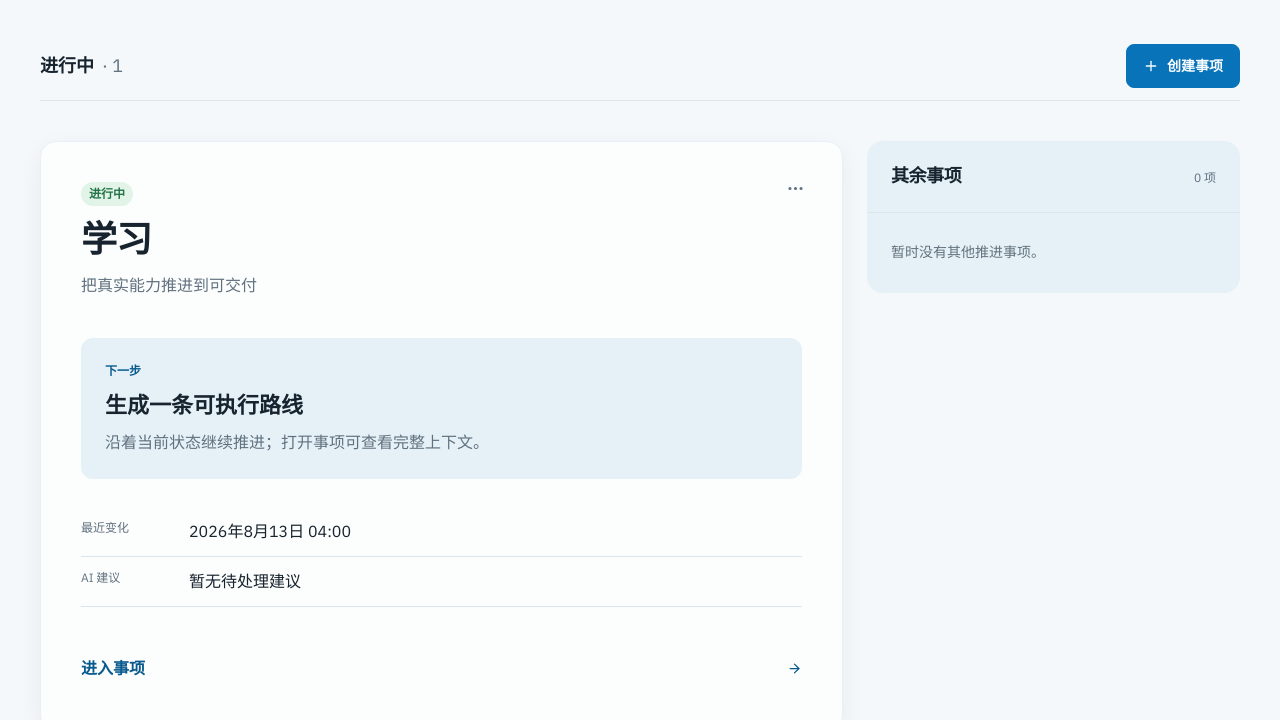
Test: Final usability closure · planning and items › renames the canonical item and synchronizes the planning surface
Click the button named "管理事项 学习" at (796, 188), box 774,166 -> 818,210
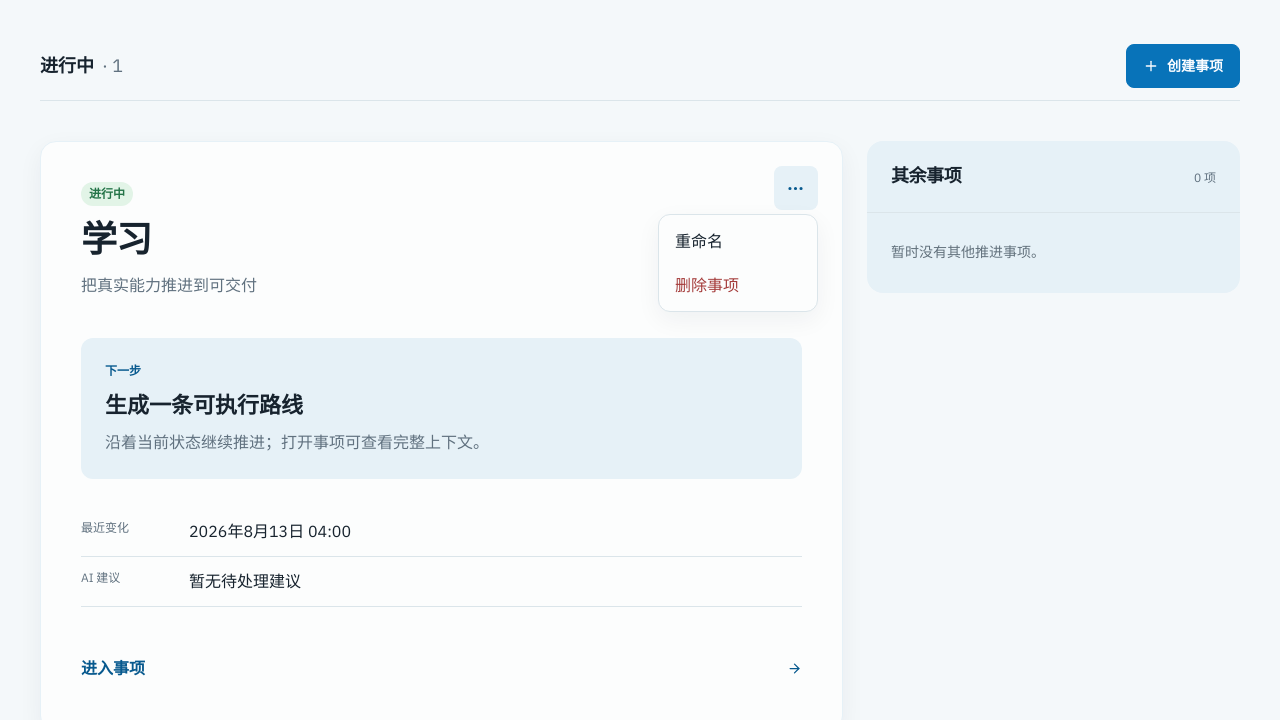
Click the menu item "重命名" at (738, 241), box 663,219 -> 813,263
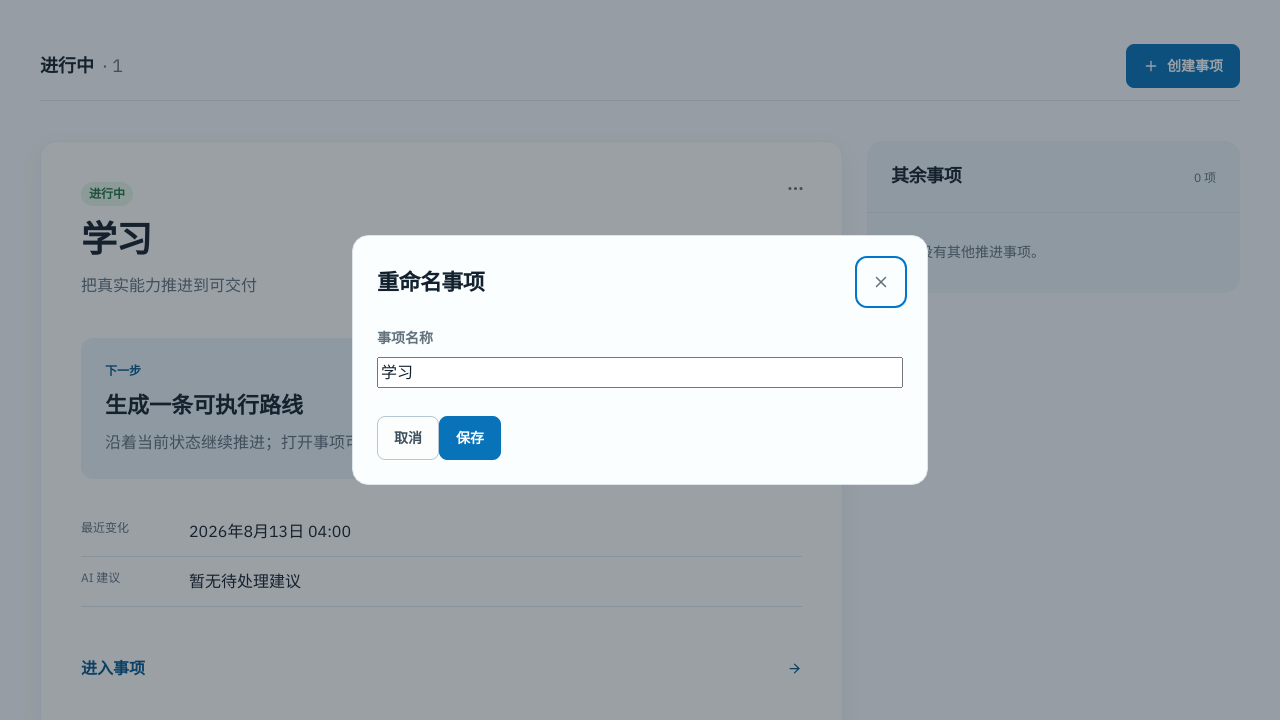
Replace the text in the field named "新的事项名称" with "  AI 应用开发学习  " at (640, 373), box 377,357 -> 903,388
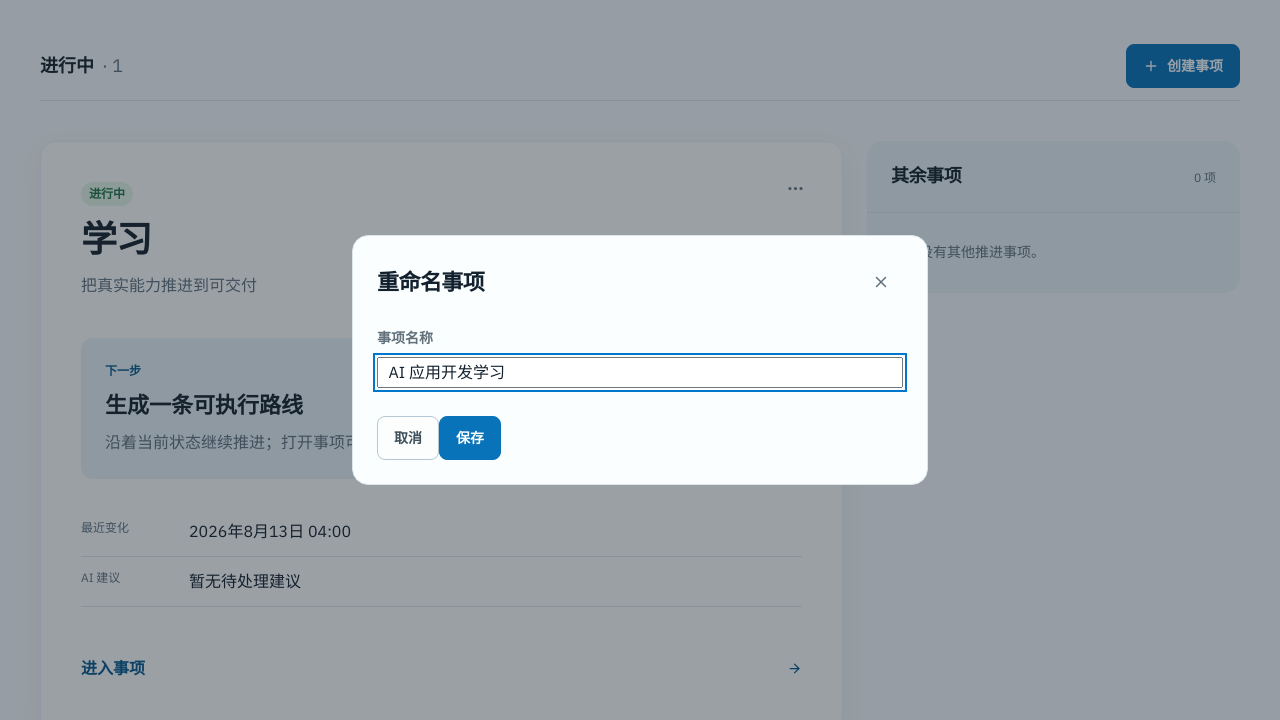
Click the button "保存" at (470, 438), box 439,416 -> 501,460
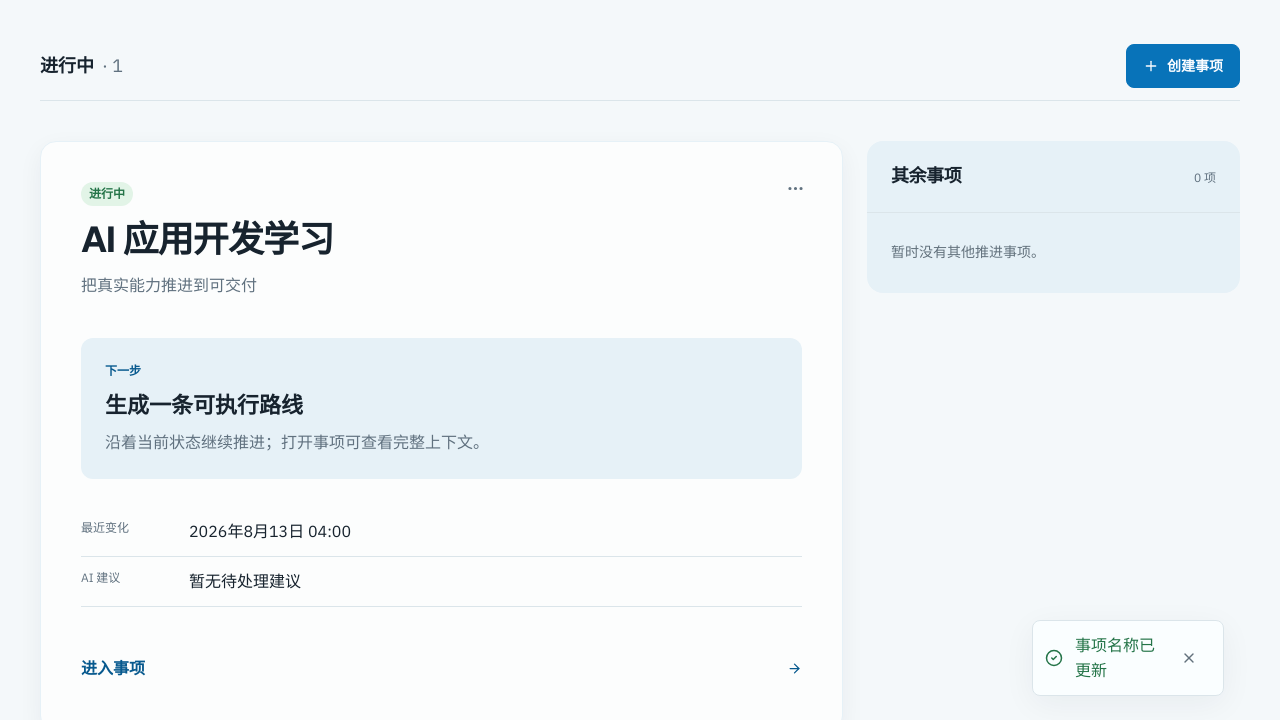
expect the heading "AI 应用开发学习" is shown: met, box 81,218 -> 333,261
